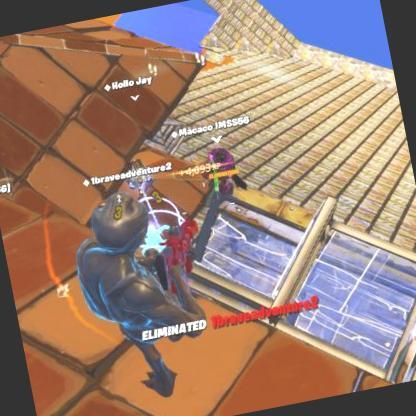person: (196, 138, 244, 208)
